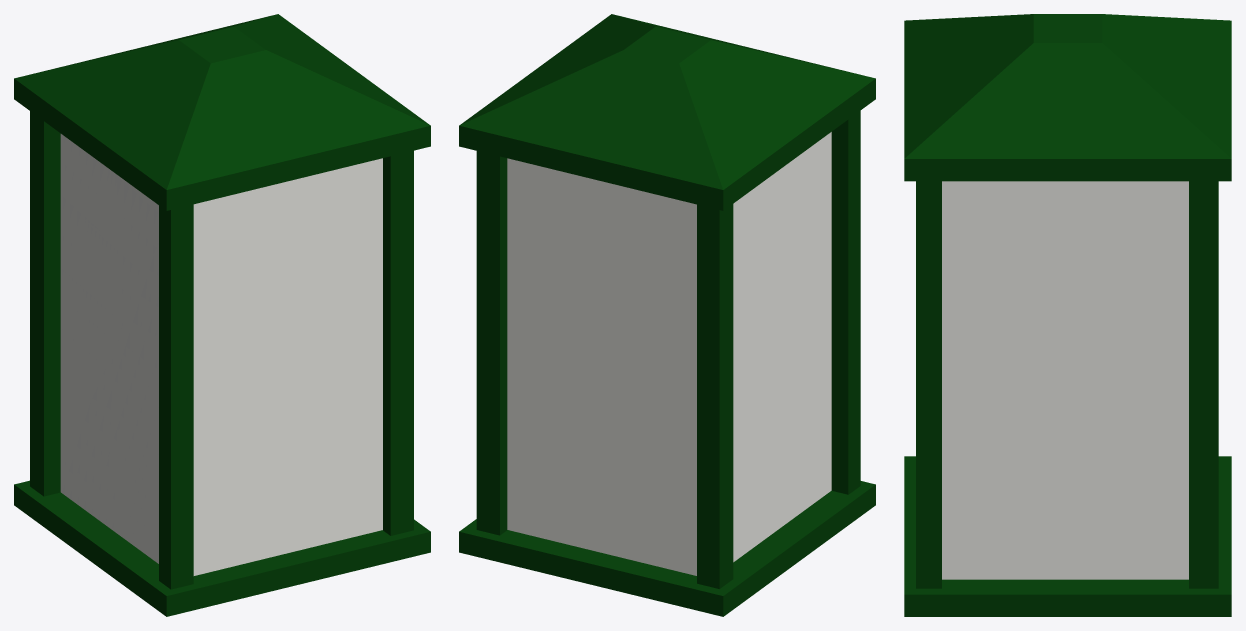
File: lamp.fbx
3 views of the same model, side by side, from view 1: azimuth 30°, elevation 25°; view 2: azimuth 150°, elevation 25°; view 3: azimuth 270°, elevation 25° (orthographic). The views are drawn at different scales.
Visible parts, largest first — view 1: Cube.001, Cube; view 2: Cube.001, Cube; view 3: Cube.001, Cube.
Part boxes in pixels (bbox=[...]): Cube.001: bbox=[60, 134, 382, 575]; Cube: bbox=[14, 14, 430, 616]; Cube.001: bbox=[507, 132, 831, 575]; Cube: bbox=[459, 14, 875, 616]; Cube.001: bbox=[942, 181, 1188, 579]; Cube: bbox=[904, 14, 1231, 616].
Bounding box in the file's own units: 20 × 35 × 20.
